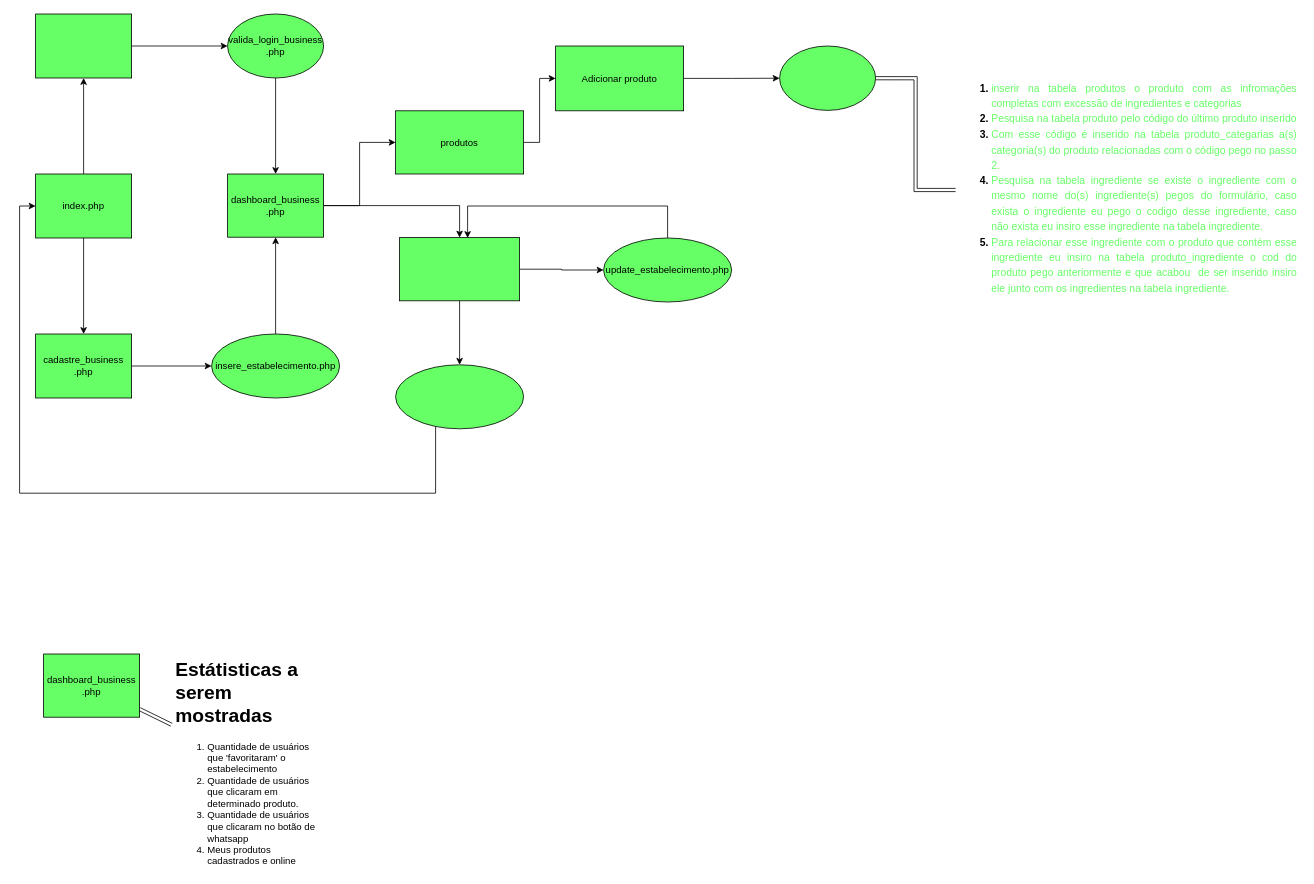
Image size: 1314x884. Some labels were removed from this diagram. The shapes that lost their labels are listed below. From the top down, each one's centre as x and y in pixels, then its label:
At [83,45]: "entre_business.php".
At [827,77]: "insere produto".
At [459,269]: "perfil_estabelecimento.php".
At [459,396]: "fecha_sesao_business .php".
